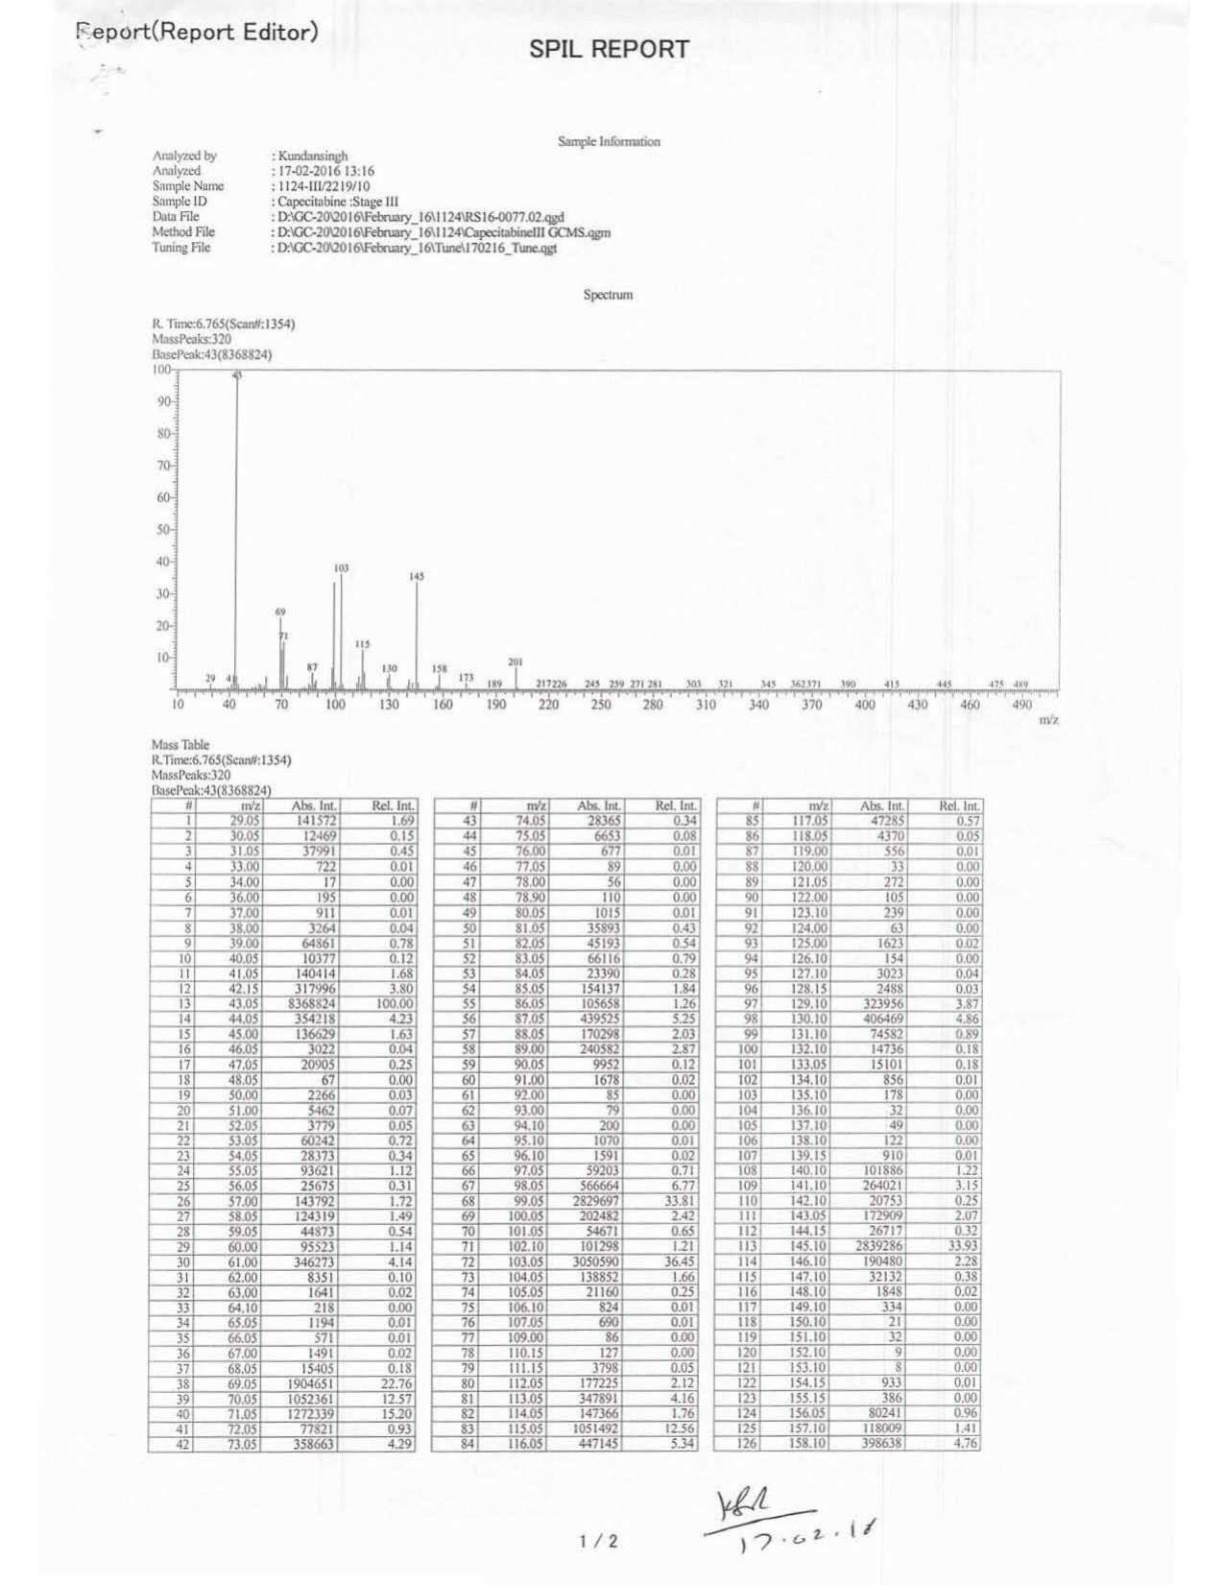full_lined: (429, 794, 702, 1453), (711, 796, 984, 1453), (147, 796, 419, 1453)
nolines: (150, 148, 612, 256)
